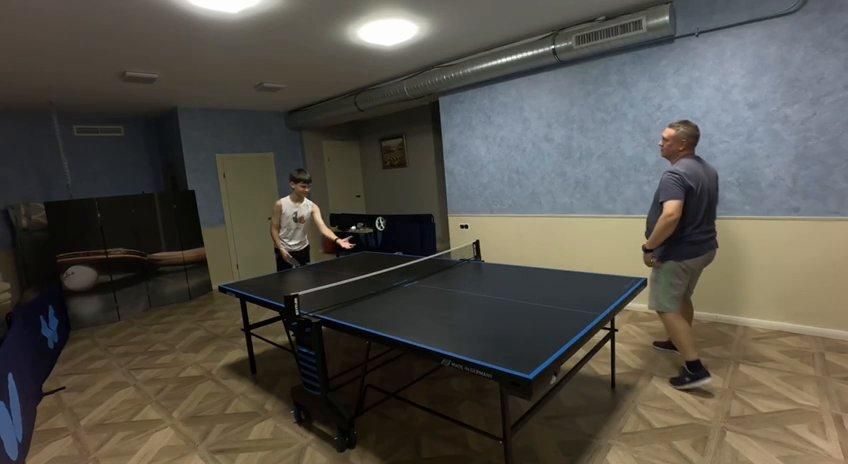Ball: (348, 225, 359, 233)
Net: (282, 241, 482, 322)
Player1: (269, 168, 359, 269)
Player2: (642, 120, 718, 388)
Table: (222, 247, 645, 376)
